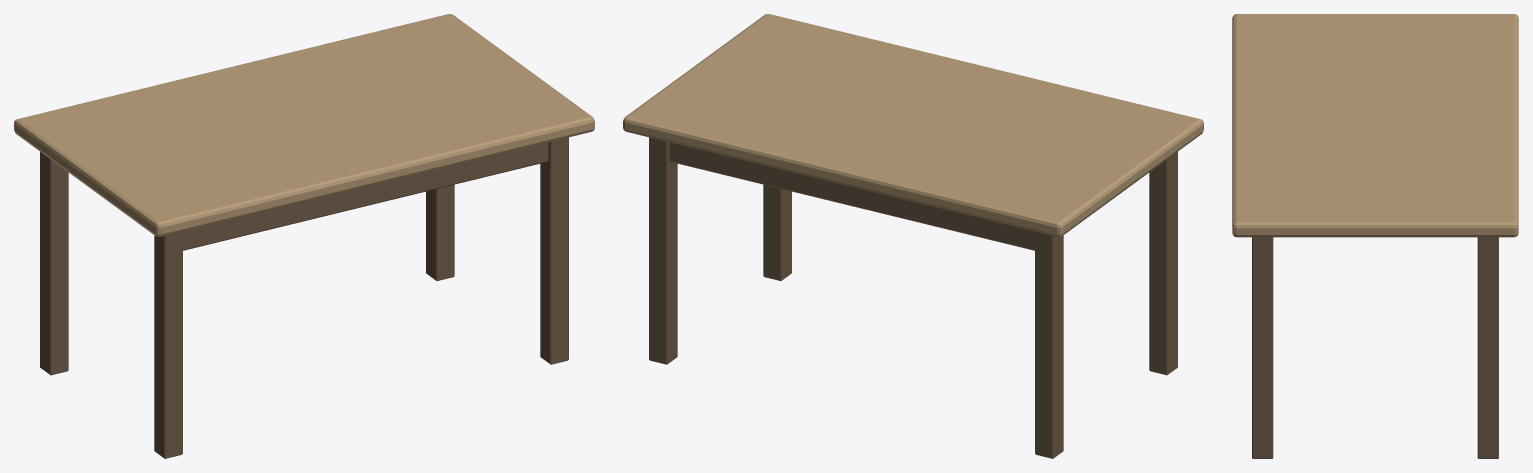
The model's file is table_dining.glb.
3 renders of one model, left to right at view 1: azimuth 30°, elevation 25°; view 2: azimuth 150°, elevation 25°; view 3: azimuth 270°, elevation 25°, orthographic.
Visible parts, largest first — view 1: table_dining; view 2: table_dining; view 3: table_dining.
Part boxes in pixels (box(x1,y1,x2,y2)): table_dining: box(14, 14, 594, 458); table_dining: box(623, 14, 1203, 458); table_dining: box(1232, 14, 1518, 458).
Size of the model in its own units: 1.4 by 0.75 by 0.8.
